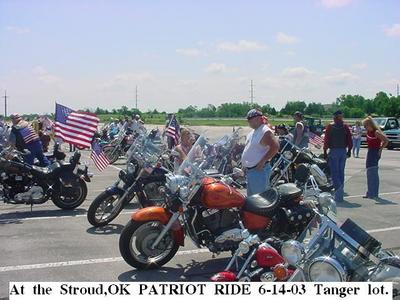person: (241, 109, 284, 199), (323, 110, 355, 203), (363, 117, 390, 201)
